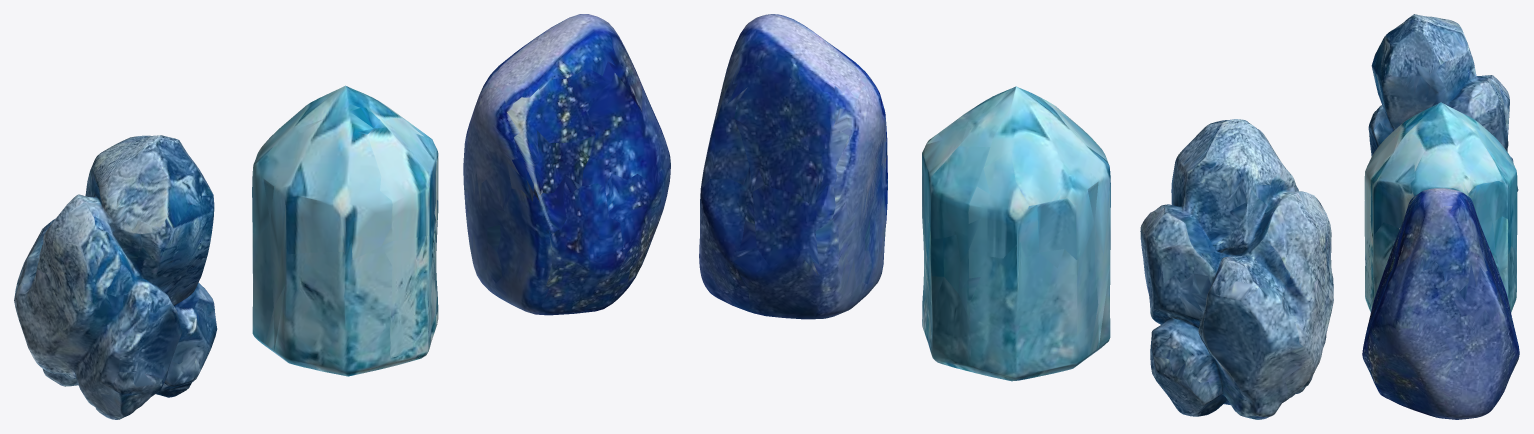
File: item_kristal.glb
3 renders of one model, left to right at view 1: azimuth 30°, elevation 25°; view 2: azimuth 150°, elevation 25°; view 3: azimuth 270°, elevation 25°, orthographic. The views are drawn at different scales.
Visible parts, largest first — view 1: tripo_node_0b133fc8-012c-4d73-8199-530af5af6519; view 2: tripo_node_0b133fc8-012c-4d73-8199-530af5af6519; view 3: tripo_node_0b133fc8-012c-4d73-8199-530af5af6519.
Boxes of the visible parts, <box> form: tripo_node_0b133fc8-012c-4d73-8199-530af5af6519: <box>14,14,670,419</box>; tripo_node_0b133fc8-012c-4d73-8199-530af5af6519: <box>699,14,1333,419</box>; tripo_node_0b133fc8-012c-4d73-8199-530af5af6519: <box>1362,14,1519,419</box>.
Bounding box in the file's own units: 0.9797 × 0.4066 × 0.2683.
Materials: 1 (1 with a texture image).
